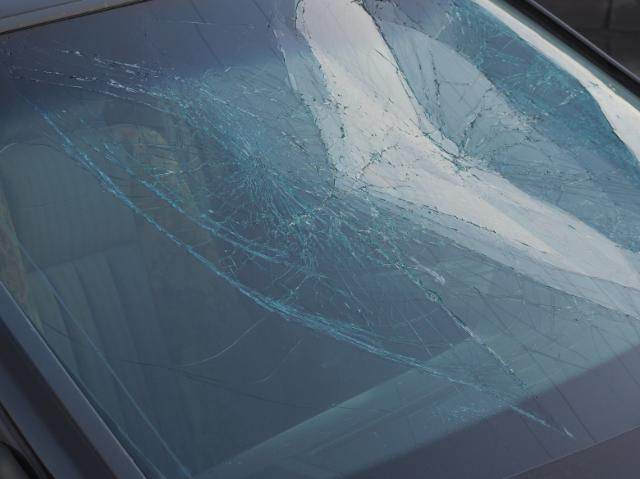Windshield: (0, 6, 640, 479)
